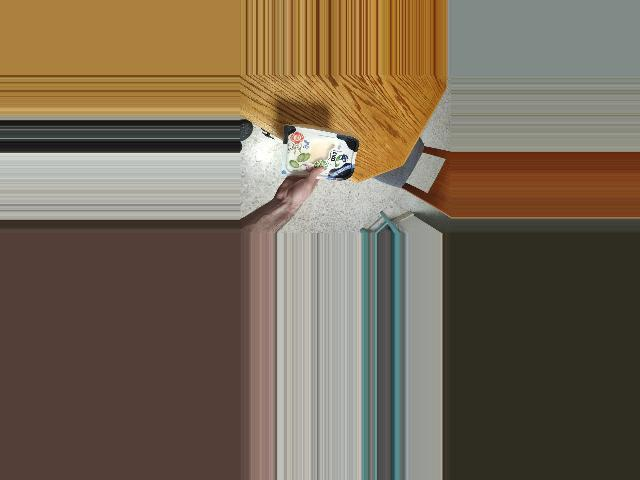cheese: (291, 129, 360, 181)
